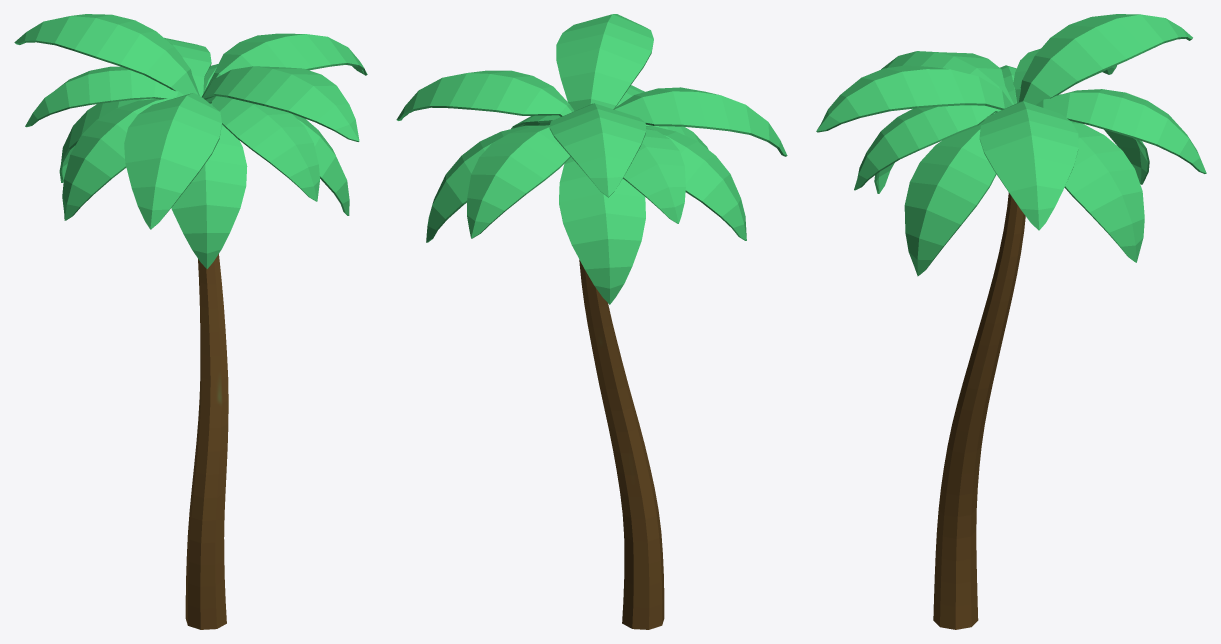
File: PBR - Metallic Roughness.glb
3 renders of one model, left to right at view 1: azimuth 30°, elevation 25°; view 2: azimuth 150°, elevation 25°; view 3: azimuth 270°, elevation 25°, orthographic. The views are drawn at different scales.
Visible parts, largest first — view 1: defaultobject; view 2: defaultobject; view 3: defaultobject.
Boxes of the visible parts, left/top/right/bottom form: defaultobject: left=14, top=14, right=367, bottom=629; defaultobject: left=396, top=14, right=787, bottom=629; defaultobject: left=816, top=14, right=1206, bottom=629.
Size of the model in its own units: 328 by 540 by 327.
Materials: 1 (1 with a texture image).
